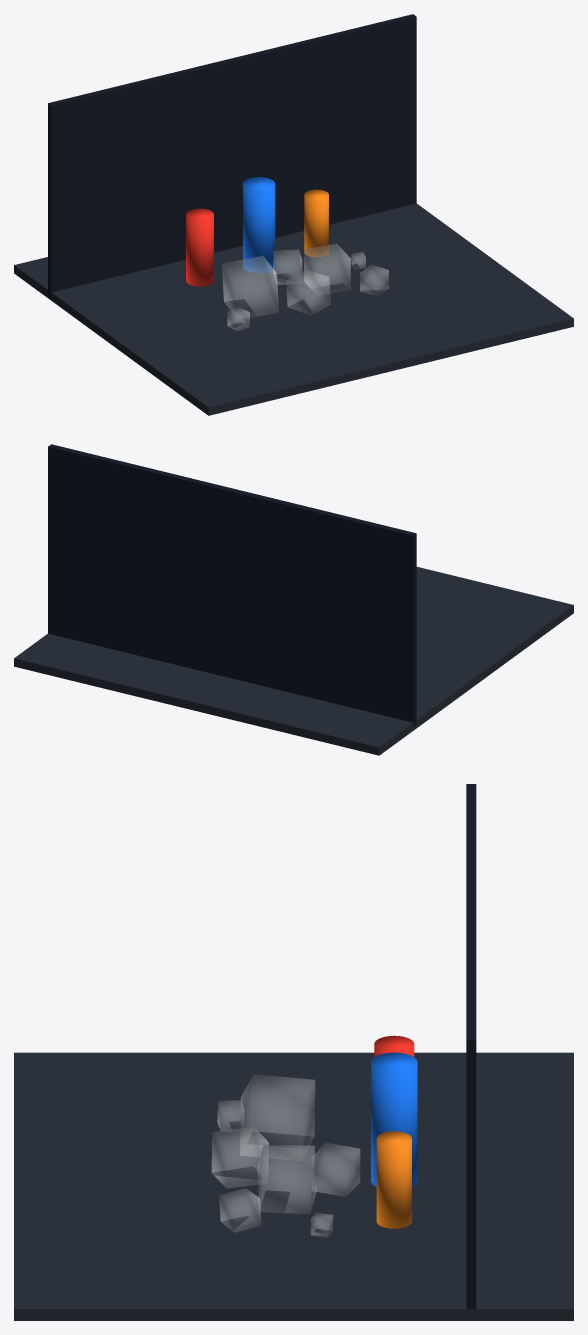
File: glass_cubes_collection_1.glb
3 renders of one model, top to bottom at view 1: azimuth 30°, elevation 25°; view 2: azimuth 150°, elevation 25°; view 3: azimuth 270°, elevation 25°, orthographic. The views are drawn at different scales.
Visible parts, largest first — view 1: CubesPreview_Backdrop, CubesPreview_Floor, CubesPreview_BluePillar, GlassCube_01_XL, CubesPreview_CoralPillar, GlassCube_02_L, CubesPreview_GoldPillar, GlassCube_03_M, GlassCube_04_M, GlassCube_05_S; view 2: CubesPreview_Backdrop, CubesPreview_Floor; view 3: CubesPreview_Floor, CubesPreview_Backdrop, GlassCube_01_XL, CubesPreview_BluePillar, GlassCube_02_L, CubesPreview_GoldPillar, GlassCube_03_M, GlassCube_04_M, GlassCube_05_S, GlassCube_06_S, CubesPreview_CoralPillar.
Boxes of the visible parts, bbox=[...] form: CubesPreview_Backdrop: bbox=[48, 14, 416, 296]; CubesPreview_Floor: bbox=[14, 203, 573, 415]; CubesPreview_BluePillar: bbox=[243, 177, 275, 272]; GlassCube_01_XL: bbox=[222, 256, 278, 317]; CubesPreview_CoralPillar: bbox=[186, 208, 213, 286]; GlassCube_02_L: bbox=[304, 244, 350, 292]; CubesPreview_GoldPillar: bbox=[304, 189, 328, 257]; GlassCube_03_M: bbox=[286, 269, 330, 314]; GlassCube_04_M: bbox=[273, 249, 301, 284]; GlassCube_05_S: bbox=[360, 265, 388, 295]; CubesPreview_Backdrop: bbox=[48, 444, 416, 726]; CubesPreview_Floor: bbox=[14, 567, 573, 755]; CubesPreview_Floor: bbox=[14, 1052, 573, 1320]; CubesPreview_Backdrop: bbox=[466, 784, 476, 1315]; GlassCube_01_XL: bbox=[240, 1074, 314, 1160]; CubesPreview_BluePillar: bbox=[371, 1052, 417, 1186]; GlassCube_02_L: bbox=[258, 1145, 315, 1213]; CubesPreview_GoldPillar: bbox=[376, 1131, 411, 1228]; GlassCube_03_M: bbox=[212, 1127, 268, 1188]; GlassCube_04_M: bbox=[312, 1143, 359, 1196]; GlassCube_05_S: bbox=[219, 1188, 261, 1232]; GlassCube_06_S: bbox=[217, 1100, 244, 1131]; CubesPreview_CoralPillar: bbox=[374, 1035, 414, 1056].
Size of the model in its own units: 13 by 6.63 by 12.
